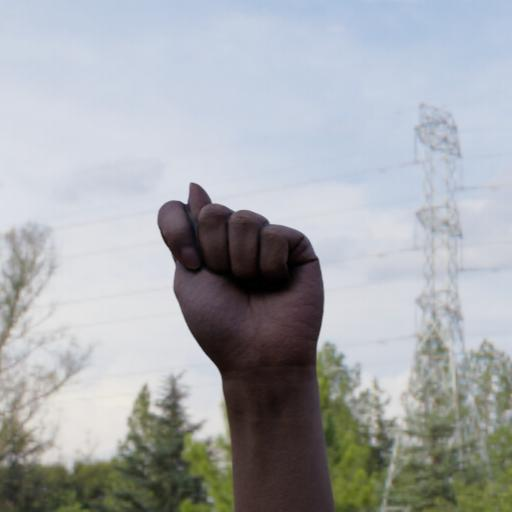T: (143, 163, 338, 512)
